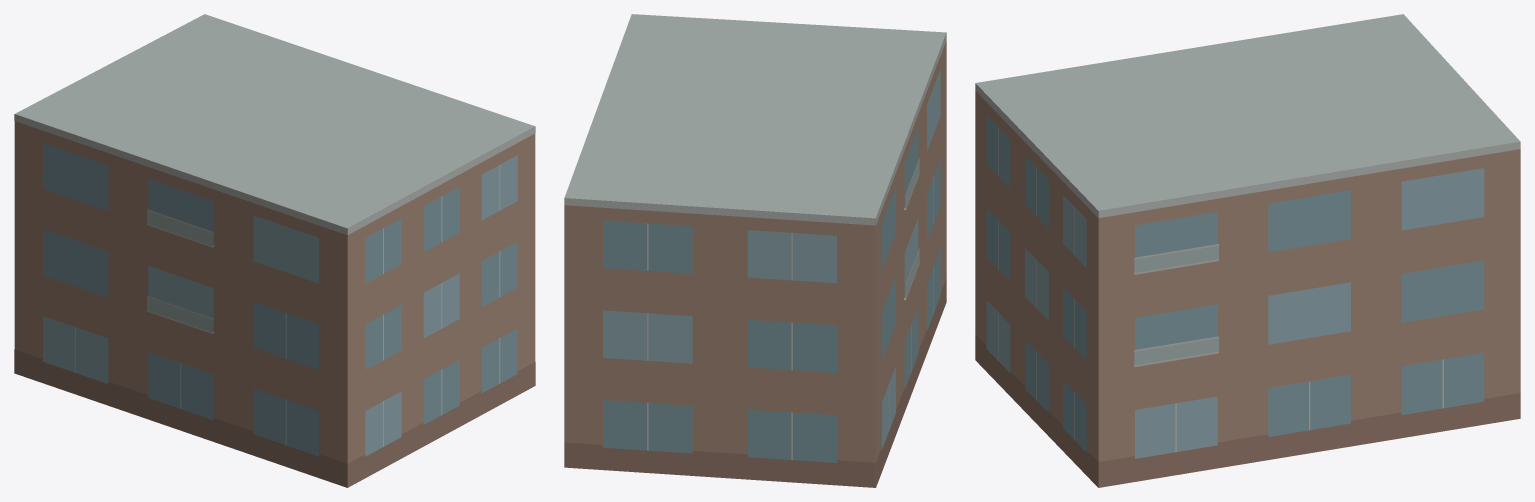
File: survey-upis-32698439.glb
3 views of the same model, side by side, from view 1: azimuth 30°, elevation 25°; view 2: azimuth 150°, elevation 25°; view 3: azimuth 270°, elevation 25° (orthographic). The views are drawn at different scales.
Visible parts, largest first — view 1: survey-upis-32698439.tmp; view 2: survey-upis-32698439.tmp; view 3: survey-upis-32698439.tmp.
Boxes of the visible parts, x1,y1,x2,y2 form: survey-upis-32698439.tmp: (14, 14, 535, 487); survey-upis-32698439.tmp: (564, 14, 946, 487); survey-upis-32698439.tmp: (975, 14, 1520, 487).
Bounding box in the file's own units: 13.96 × 9.15 × 16.34.
